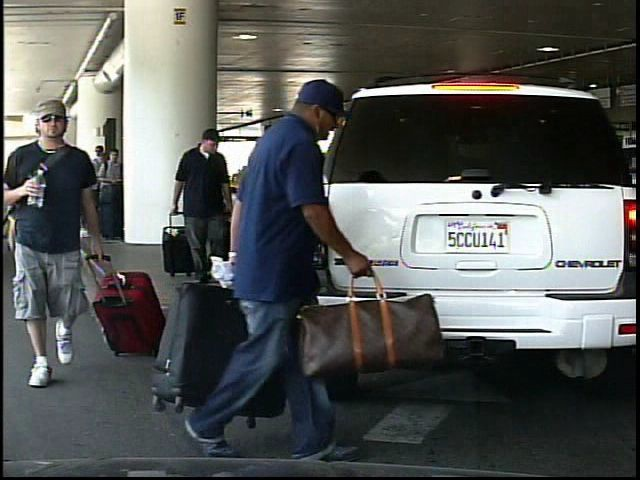person: (220, 76, 370, 468), (15, 99, 112, 391), (168, 129, 237, 279)
